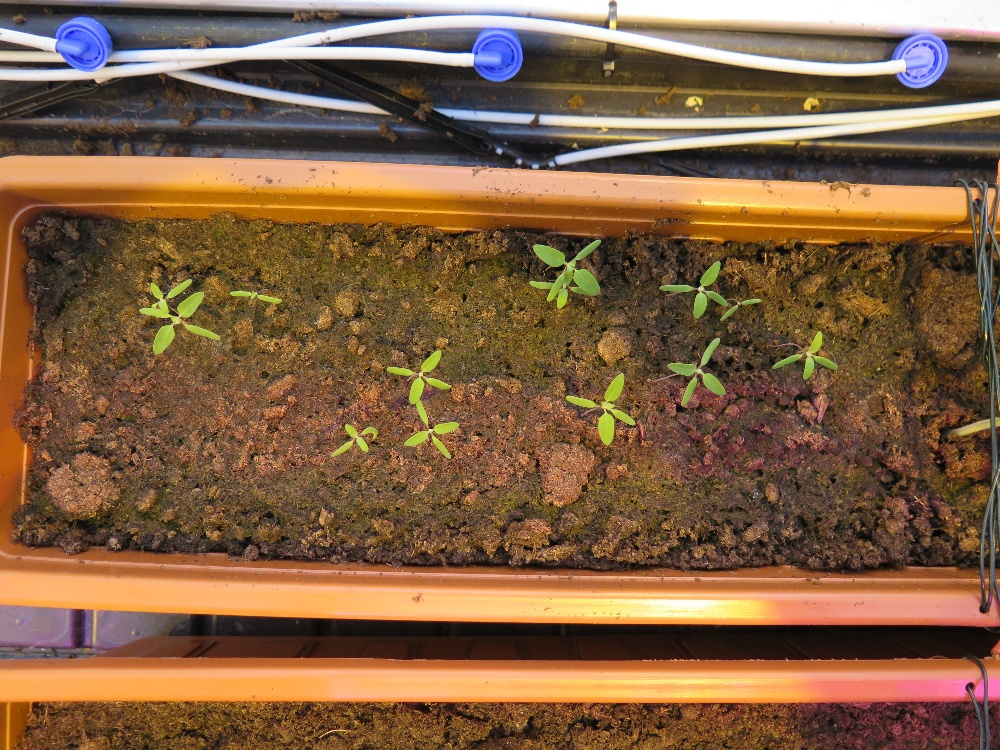weed: (527, 231, 623, 329), (562, 349, 650, 449), (657, 320, 741, 417), (391, 390, 480, 474), (757, 313, 841, 392), (134, 274, 218, 349), (666, 251, 748, 320), (375, 338, 448, 401), (332, 424, 377, 465)
